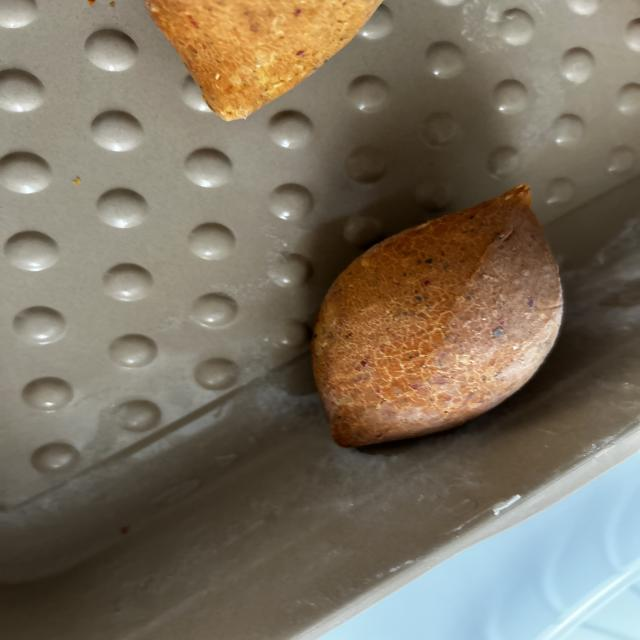kobi: (310, 182, 564, 448), (143, 0, 384, 122)
